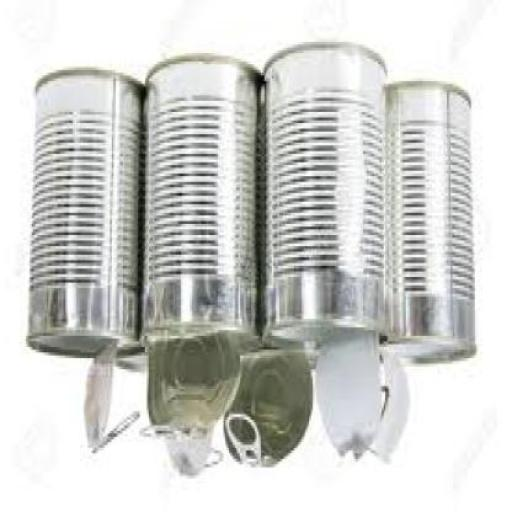metal: (268, 47, 392, 355), (144, 62, 262, 355), (30, 70, 144, 363), (387, 84, 478, 366), (149, 330, 242, 468), (227, 342, 313, 473), (318, 333, 390, 458), (372, 361, 416, 465), (86, 338, 118, 453), (108, 411, 140, 442)
